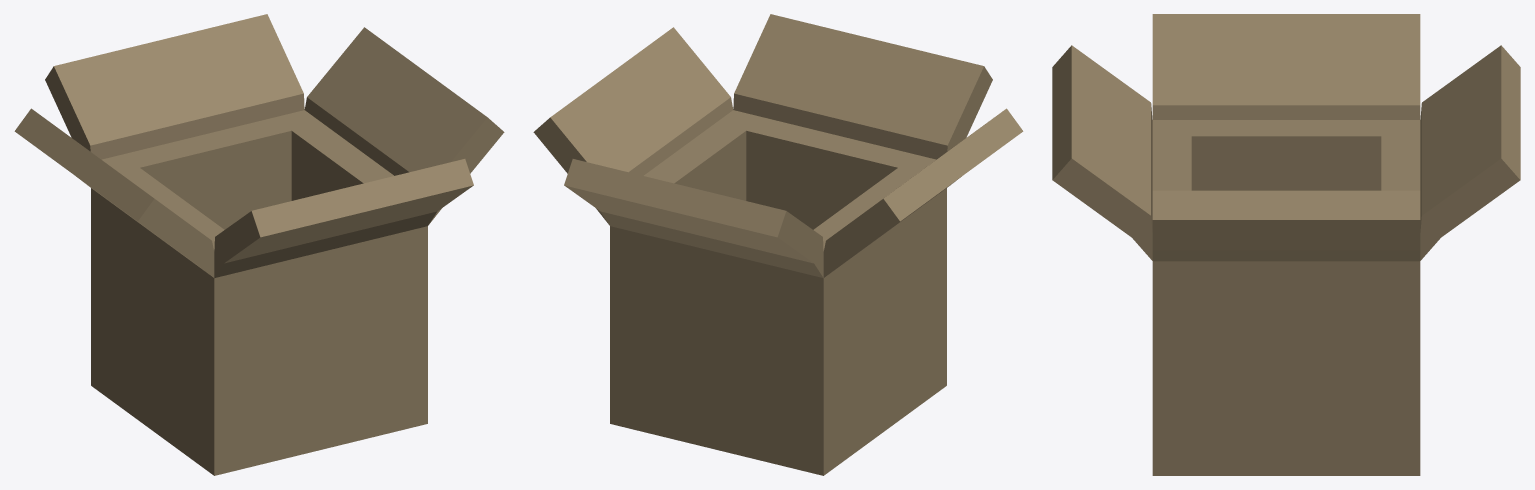
The model's file is Pappeske liten brett opp.fbx.
3 renders of one model, left to right at view 1: azimuth 30°, elevation 25°; view 2: azimuth 150°, elevation 25°; view 3: azimuth 270°, elevation 25°, orthographic. The views are drawn at different scales.
Visible parts, largest first — view 1: pCube3; view 2: pCube3; view 3: pCube3.
Boxes of the visible parts, box(x1,y1,x2,y2) form: pCube3: box(14, 14, 504, 475); pCube3: box(533, 14, 1023, 475); pCube3: box(1052, 14, 1520, 475).
Bounding box in the file's own units: 163 × 124 × 166.
